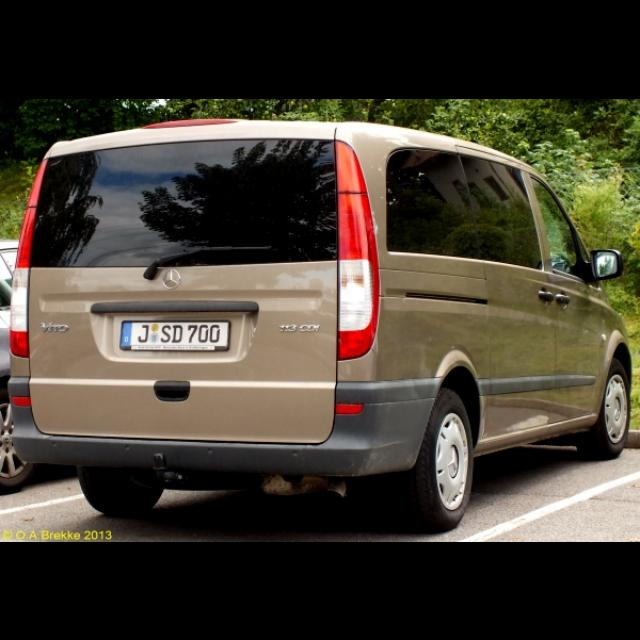d_license_plate: (120, 320, 228, 344)
